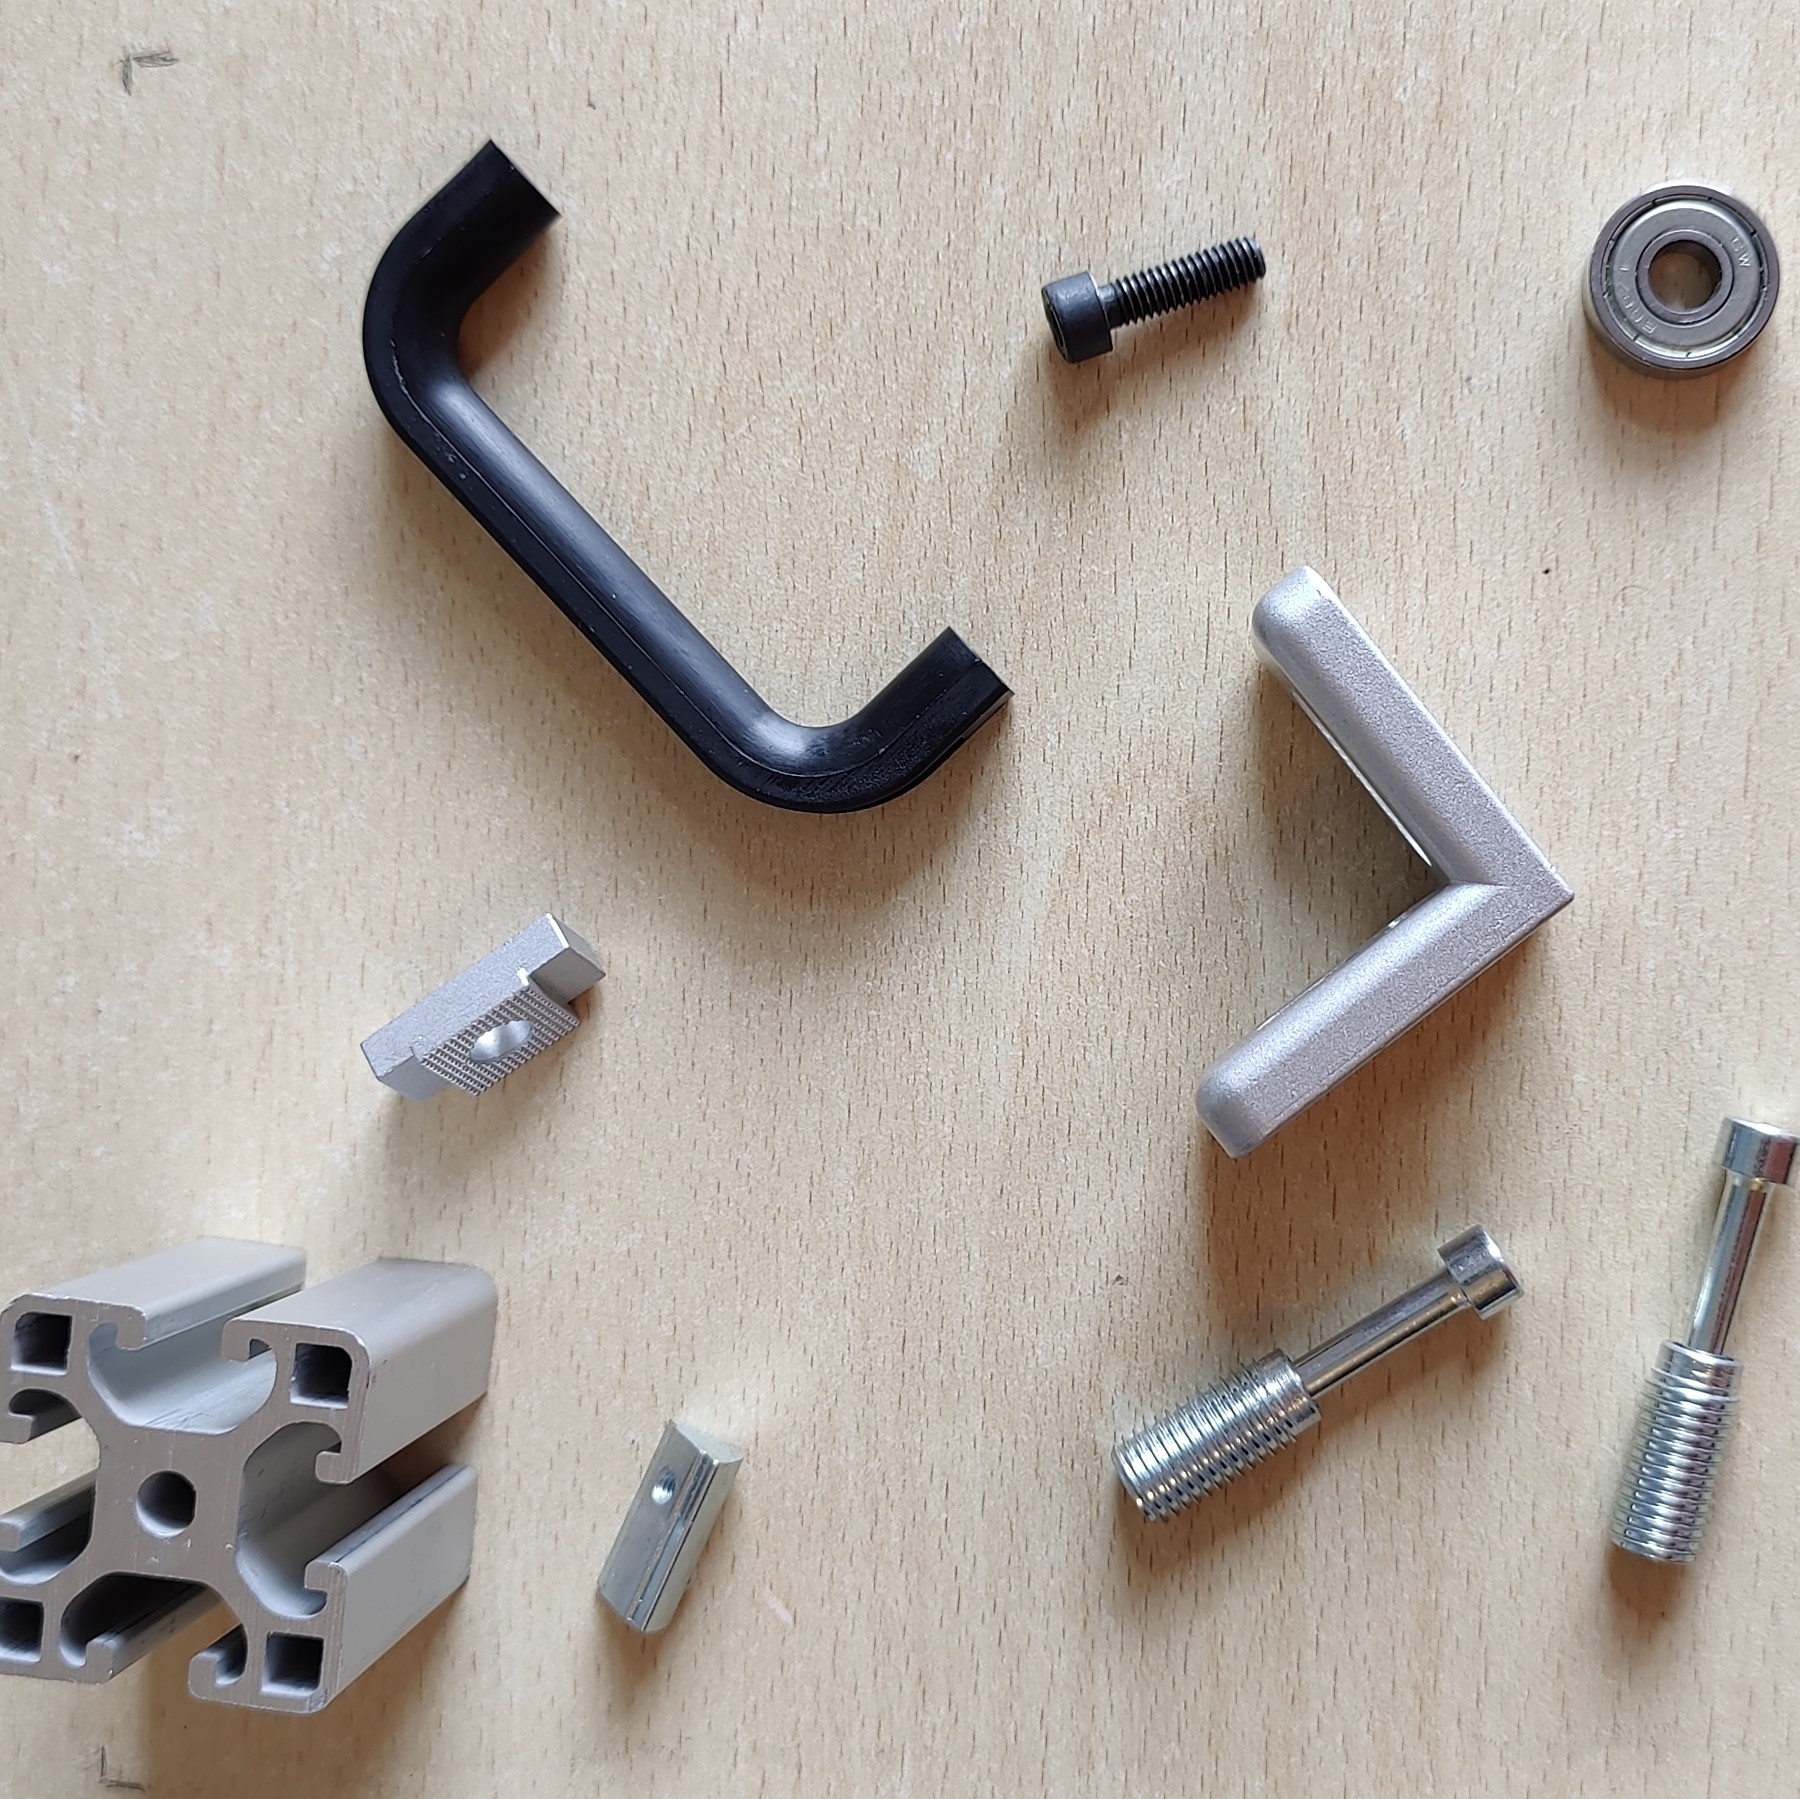Aluminium Extension: (2, 1241, 501, 1718)
Ball Bearing: (1578, 185, 1780, 382)
Multiwinkel: (1192, 562, 1578, 1165)
Pull Handle: (357, 132, 1016, 815)
Shoulder Socket Head Cap Screw: (1112, 1222, 1527, 1526), (1606, 1117, 1798, 1568)
Socket Head Cap Screw: (1039, 234, 1270, 367)
T Nut Square: (356, 914, 608, 1105)
T Spring Nut: (598, 1413, 744, 1639)
